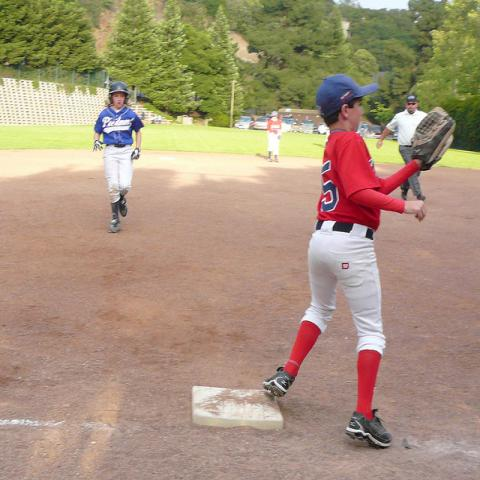car: (364, 126, 393, 140), (281, 114, 298, 133), (234, 116, 256, 130), (252, 117, 271, 130), (317, 124, 328, 134)
